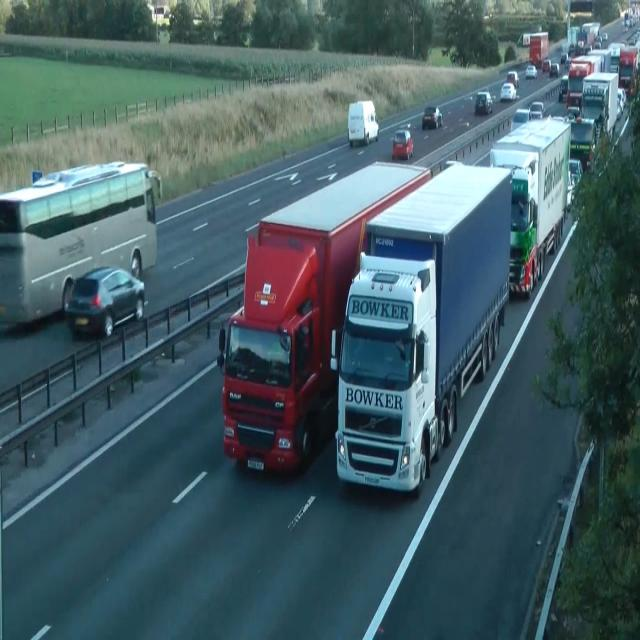bus: (65, 266, 147, 338), (567, 158, 583, 210), (391, 129, 413, 159), (511, 108, 531, 132), (422, 106, 442, 129), (475, 90, 493, 114), (568, 158, 582, 186), (566, 170, 574, 210), (616, 87, 626, 119), (499, 83, 516, 101), (529, 101, 545, 119), (558, 75, 568, 101), (564, 106, 580, 122), (506, 70, 520, 88), (525, 64, 537, 79), (549, 62, 559, 78), (542, 58, 550, 72), (593, 36, 601, 49), (561, 52, 567, 63)
car: (0, 158, 162, 330)
minibus: (217, 159, 432, 476), (330, 160, 512, 493), (489, 114, 571, 298), (580, 71, 618, 141), (600, 43, 638, 97), (566, 54, 602, 111), (567, 116, 597, 172), (347, 100, 379, 146), (529, 31, 549, 69)
